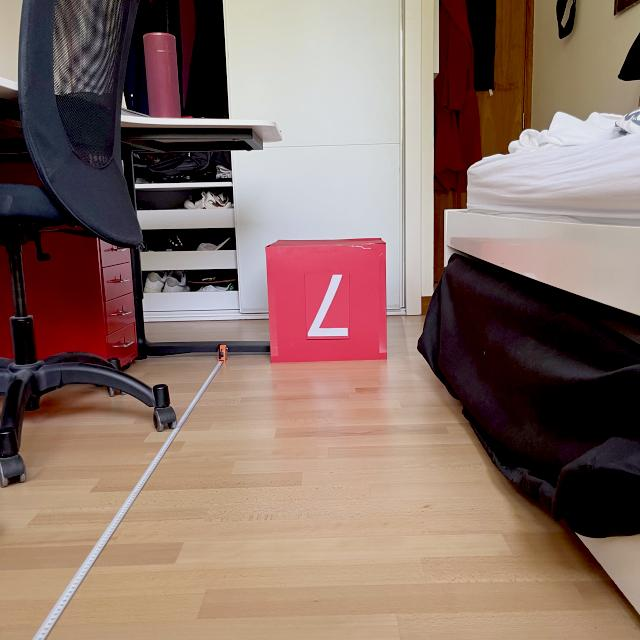box: (261, 234, 391, 365)
